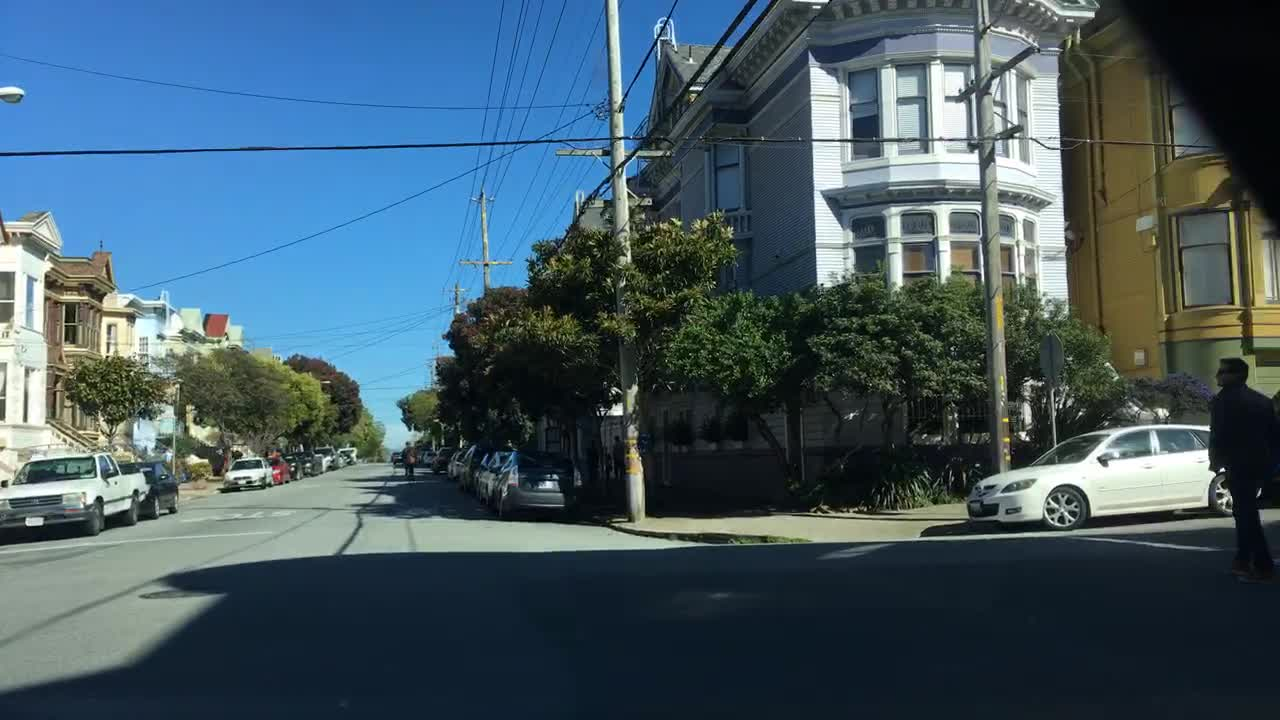car: (965, 424, 1236, 531), (492, 447, 583, 516), (119, 457, 179, 519), (222, 456, 275, 491), (479, 449, 512, 505), (457, 441, 482, 487), (469, 450, 491, 495), (451, 441, 470, 479), (265, 455, 289, 484), (432, 444, 455, 474), (314, 444, 339, 468), (299, 450, 322, 476), (282, 453, 302, 479), (445, 447, 461, 476), (338, 446, 357, 465), (421, 449, 436, 467), (414, 446, 427, 462), (390, 450, 403, 464)
person: (1206, 357, 1278, 584), (609, 433, 625, 485), (597, 442, 609, 480), (403, 445, 416, 473), (400, 437, 409, 471)
truck: (0, 450, 151, 531)
